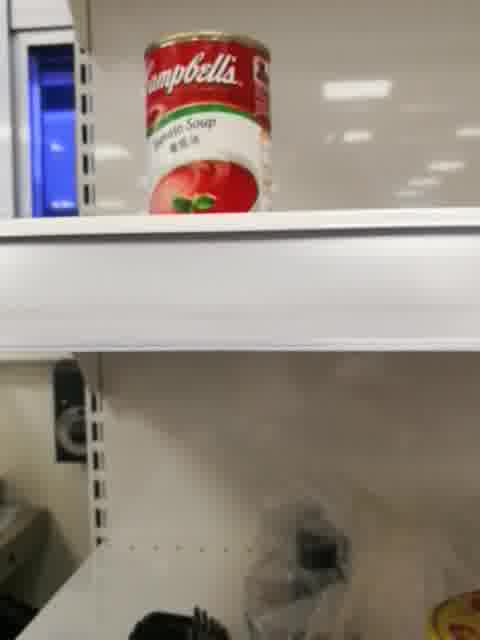tomatosoup: (142, 28, 272, 215)
